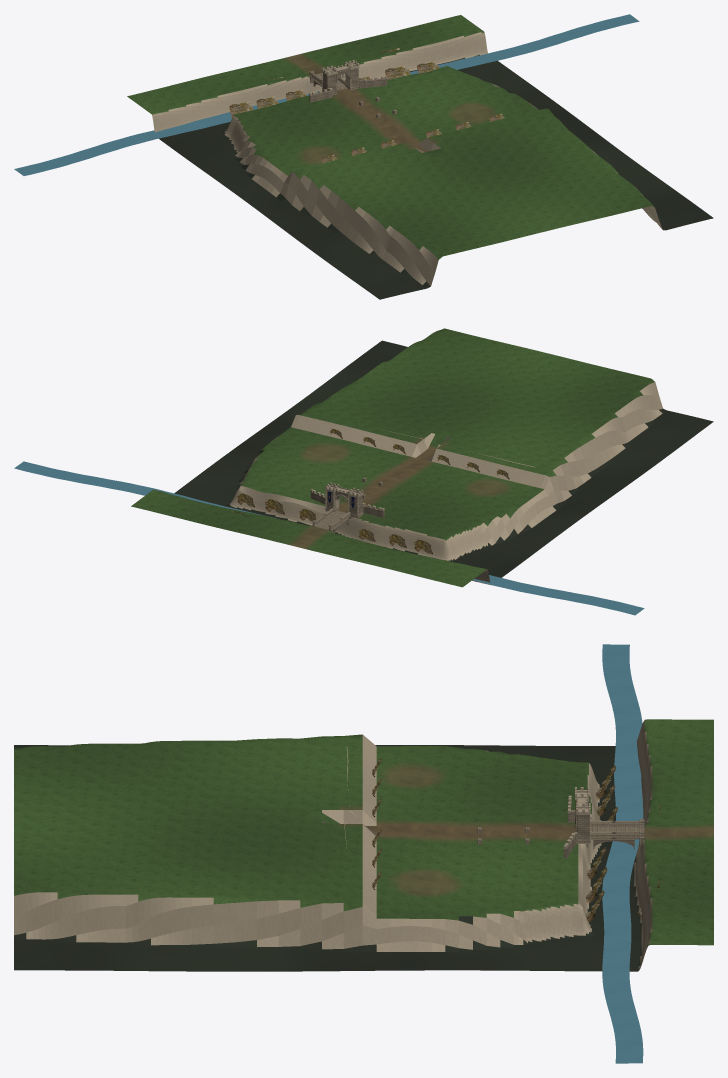
File: ValoriaEntryZoneV3.glb
The picture shows the model from 3 angles, top to bottom: view 1: azimuth 30°, elevation 25°; view 2: azimuth 150°, elevation 25°; view 3: azimuth 270°, elevation 25°; orthographic projection. The views are drawn at different scales.
Parts seen in each view (by area): view 1: ValoriaEntryTerrainV3, V3_V2_VALORIA_RIVER_CONTINUOUS_RIPPLED_WATER; view 2: ValoriaEntryTerrainV3, V3_V2_VALORIA_RIVER_CONTINUOUS_RIPPLED_WATER; view 3: ValoriaEntryTerrainV3, V3_V2_VALORIA_RIVER_CONTINUOUS_RIPPLED_WATER.
Boxes of the visible parts, x1,y1,x2,y2 form: ValoriaEntryTerrainV3: (127, 15, 713, 299); V3_V2_VALORIA_RIVER_CONTINUOUS_RIPPLED_WATER: (14, 14, 639, 175); ValoriaEntryTerrainV3: (131, 328, 713, 587); V3_V2_VALORIA_RIVER_CONTINUOUS_RIPPLED_WATER: (14, 461, 644, 615); ValoriaEntryTerrainV3: (14, 719, 713, 971); V3_V2_VALORIA_RIVER_CONTINUOUS_RIPPLED_WATER: (602, 644, 643, 1063).
Bounding box in the file's own units: 166 × 11.22 × 117.
Materials: 10 (8 with a texture image).
